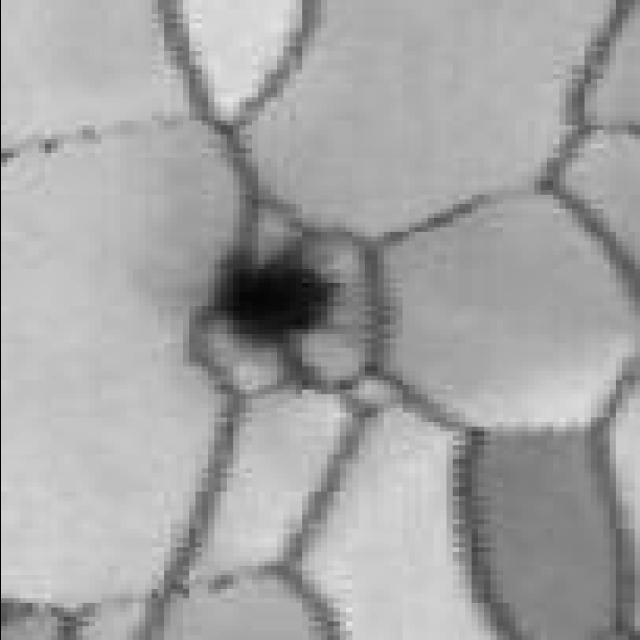good_void: (205, 249, 342, 359)
